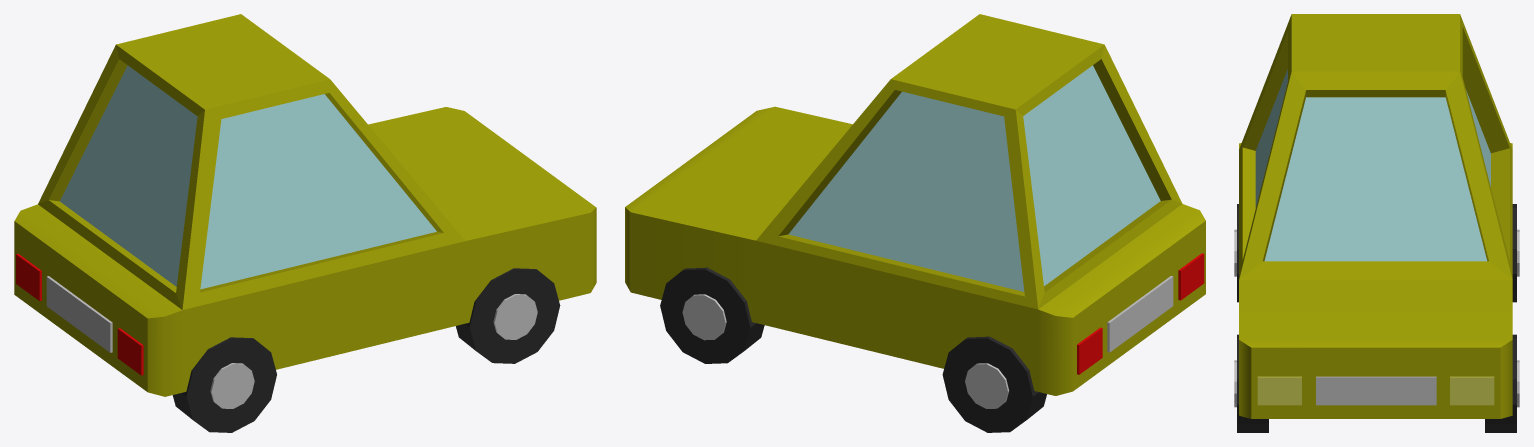
Rendered from Carro3.fbx.
The picture shows the model from 3 angles, left to right: view 1: azimuth 30°, elevation 25°; view 2: azimuth 150°, elevation 25°; view 3: azimuth 270°, elevation 25°; orthographic projection. The views are drawn at different scales.
Parts seen in each view (by area): view 1: pCube87; view 2: pCube87; view 3: pCube87.
Part boxes in pixels (bbox=[...]): pCube87: bbox=[14, 14, 596, 432]; pCube87: bbox=[625, 14, 1205, 432]; pCube87: bbox=[1234, 14, 1519, 432].
Size of the model in its own units: 3.1 by 1.97 by 1.78.
